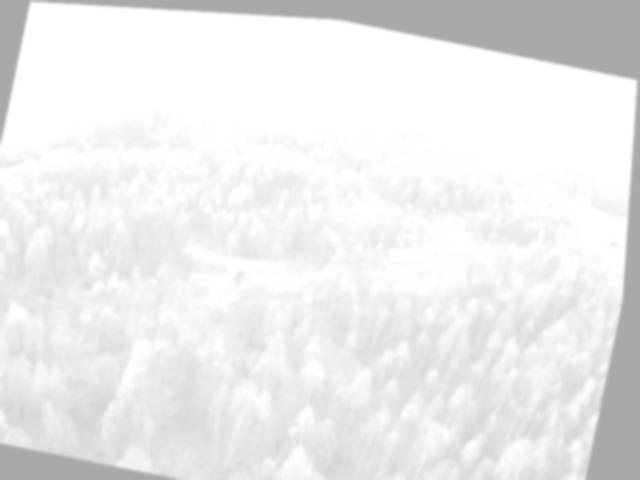hedef: (162, 228, 300, 311)
